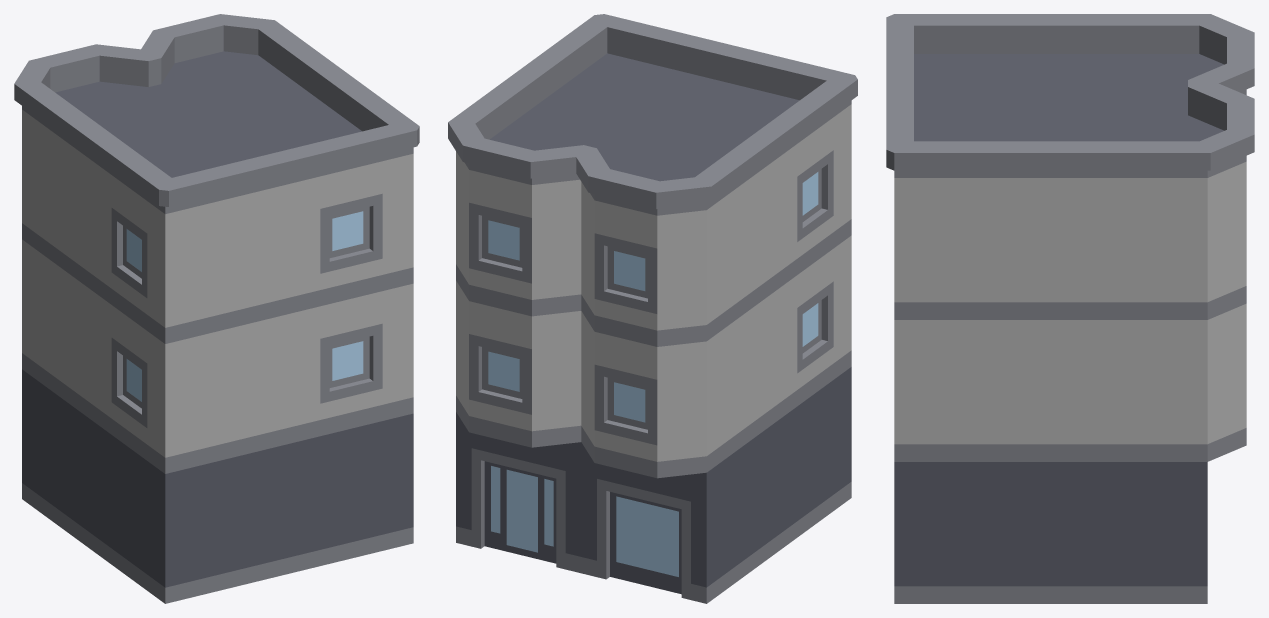
The model's file is small_buildingA.obj.
The picture shows the model from 3 angles, left to right: view 1: azimuth 30°, elevation 25°; view 2: azimuth 150°, elevation 25°; view 3: azimuth 270°, elevation 25°; orthographic projection. The views are drawn at different scales.
Parts seen in each view (by area): view 1: small_buildingA; view 2: small_buildingA; view 3: small_buildingA.
Part boxes in pixels (x1,y1,x2,y2): small_buildingA: (14,14,419,603); small_buildingA: (448,14,857,603); small_buildingA: (886,14,1254,603).
Size of the model in its own units: 0.84 by 1.28 by 0.94.
